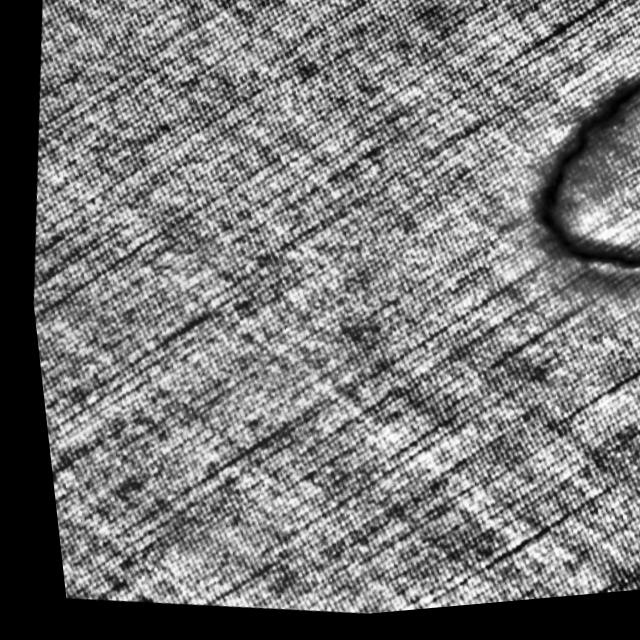Stitch: (504, 37, 639, 299)
